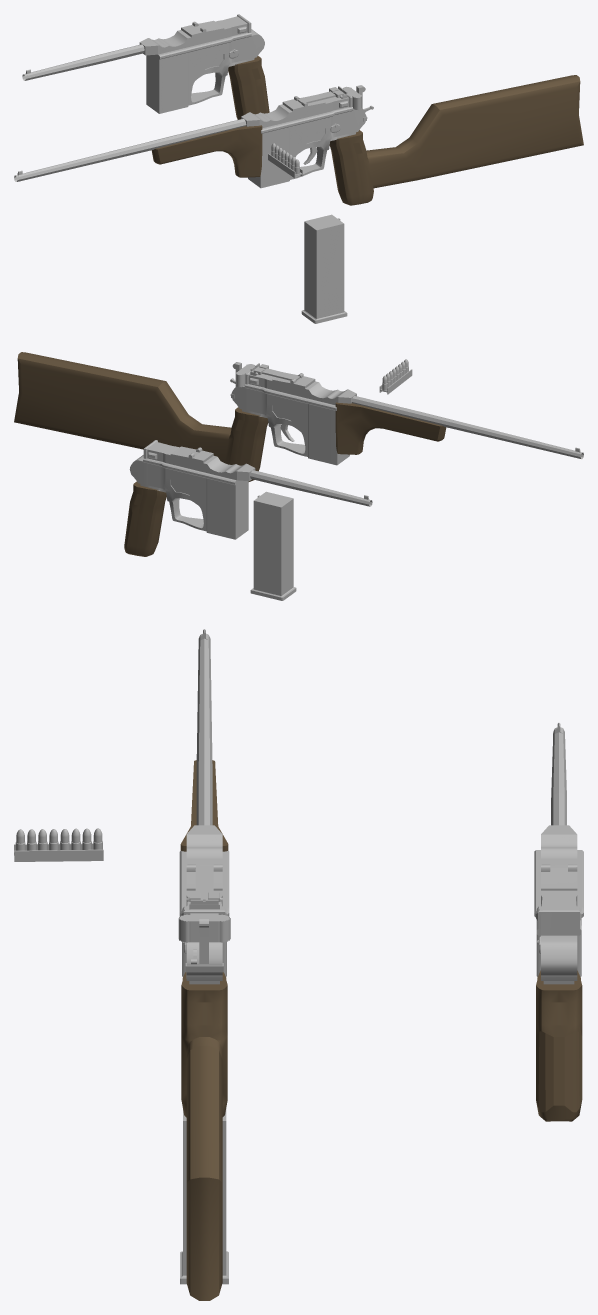
Rendered from mauser-model.glb.
3 renders of one model, top to bottom at view 1: azimuth 30°, elevation 25°; view 2: azimuth 150°, elevation 25°; view 3: azimuth 270°, elevation 25°, orthographic. The views are drawn at different scales.
Visible parts, largest first — view 1: pCube1, pCube9, pCube4, pCube2, patron; view 2: pCube1, pCube9, pCube4, pCube2, patron, celic; view 3: pCube1, pCube9, pCube4, patron, return_mechanism, derJatel, celic, pCube2.
Part boxes in pixels (left/top/right/bottom): pCube1: left=14, top=75, right=583, bottom=205; pCube9: left=22, top=14, right=269, bottom=119; pCube4: left=301, top=214, right=347, bottom=323; pCube2: left=151, top=125, right=262, bottom=177; patron: left=271, top=143, right=299, bottom=174; pCube1: left=14, top=352, right=583, bottom=481; pCube9: left=124, top=440, right=372, bottom=556; pCube4: left=250, top=491, right=296, bottom=600; pCube2: left=335, top=402, right=446, bottom=454; patron: left=382, top=359, right=408, bottom=390; celic: left=250, top=363, right=300, bottom=380; pCube1: left=179, top=629, right=229, bottom=1300; pCube9: left=534, top=723, right=583, bottom=1121; pCube4: left=180, top=1109, right=228, bottom=1284; patron: left=15, top=828, right=102, bottom=850; return_mechanism: left=178, top=913, right=230, bottom=942; derJatel: left=14, top=843, right=103, bottom=861; celic: left=186, top=866, right=222, bottom=909; pCube2: left=180, top=760, right=228, bottom=851.
Size of the model in its own units: 0.3127 by 0.1168 by 0.1562.
